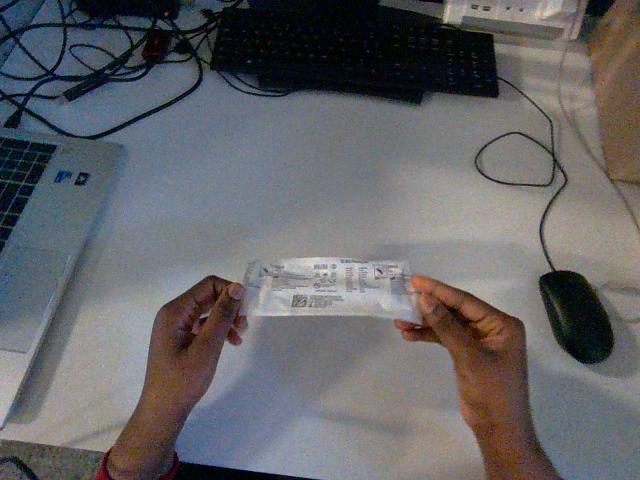syringe: (243, 257, 415, 319)
